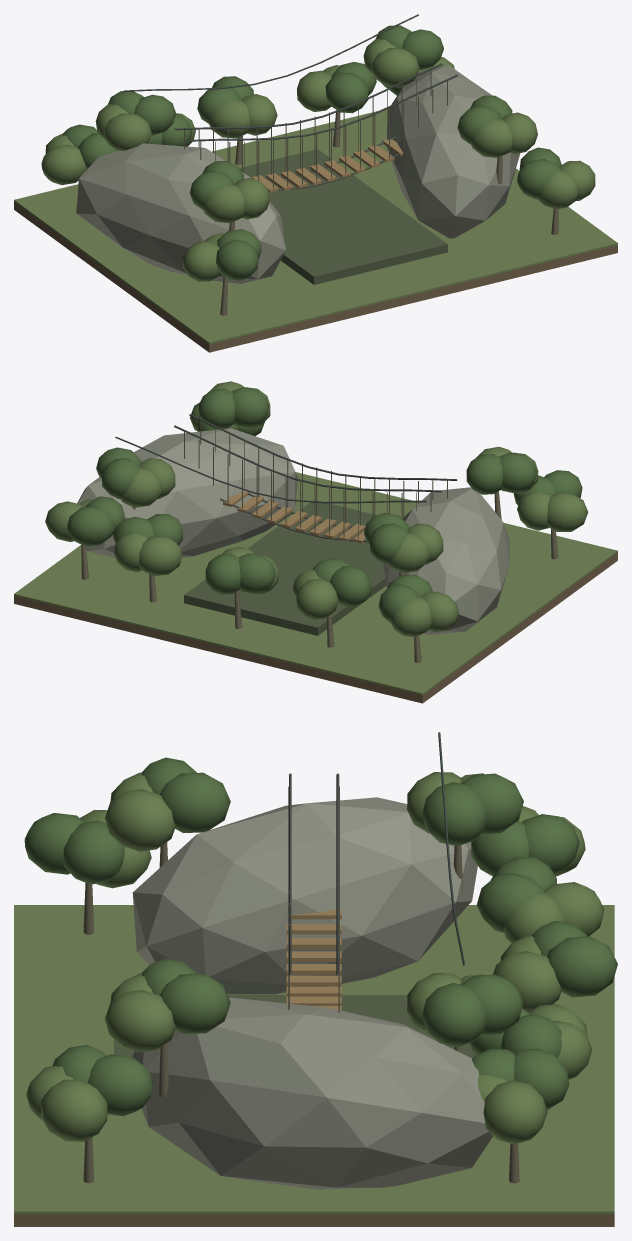
Rendered from gms-55.glb.
The picture shows the model from 3 angles, top to bottom: view 1: azimuth 30°, elevation 25°; view 2: azimuth 150°, elevation 25°; view 3: azimuth 270°, elevation 25°; orthographic projection. The views are drawn at different scales.
Visible parts, largest first — view 1: GMS-55 - estudio del paisaje; view 2: GMS-55 - estudio del paisaje; view 3: GMS-55 - estudio del paisaje.
Part boxes in pixels (<box>): GMS-55 - estudio del paisaje: <box>14,14,617,352</box>; GMS-55 - estudio del paisaje: <box>14,381,617,703</box>; GMS-55 - estudio del paisaje: <box>14,732,617,1226</box>.
Bounding box in the file's own units: 11.66 × 4.08 × 9.66.
